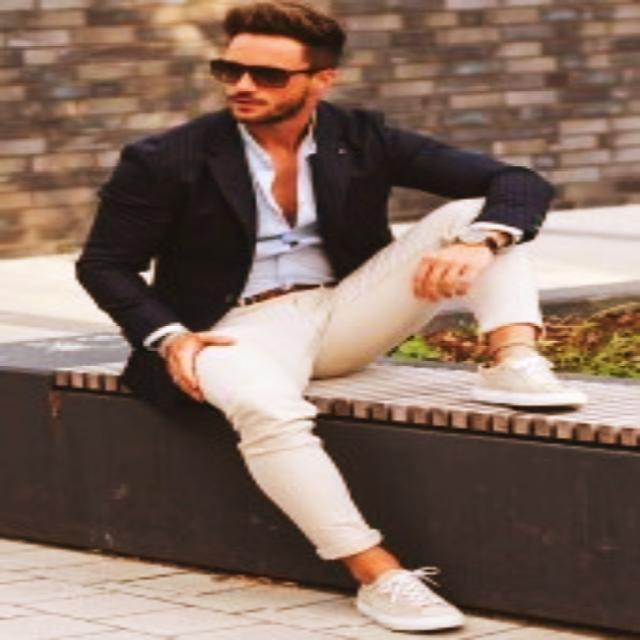sit: (143, 0, 553, 473)
